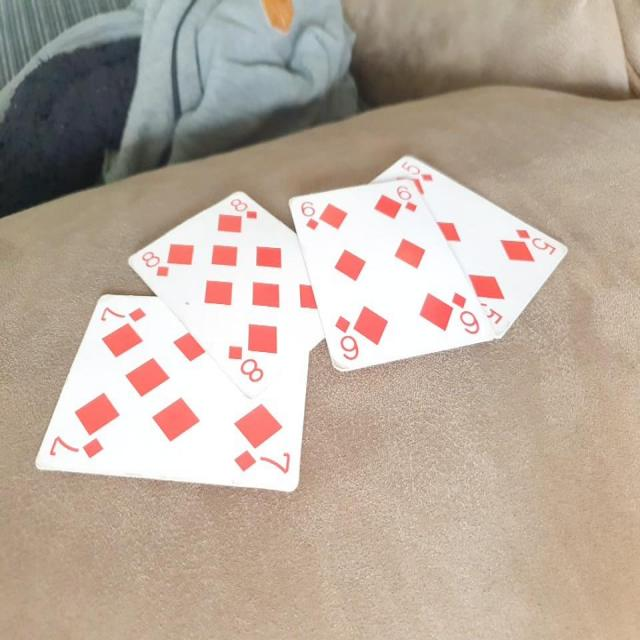5 Diamonds: (368, 146, 569, 348)
6 Diamonds: (288, 178, 495, 372)
7 Diamonds: (34, 295, 308, 493)
8 Diamonds: (126, 190, 324, 398)
